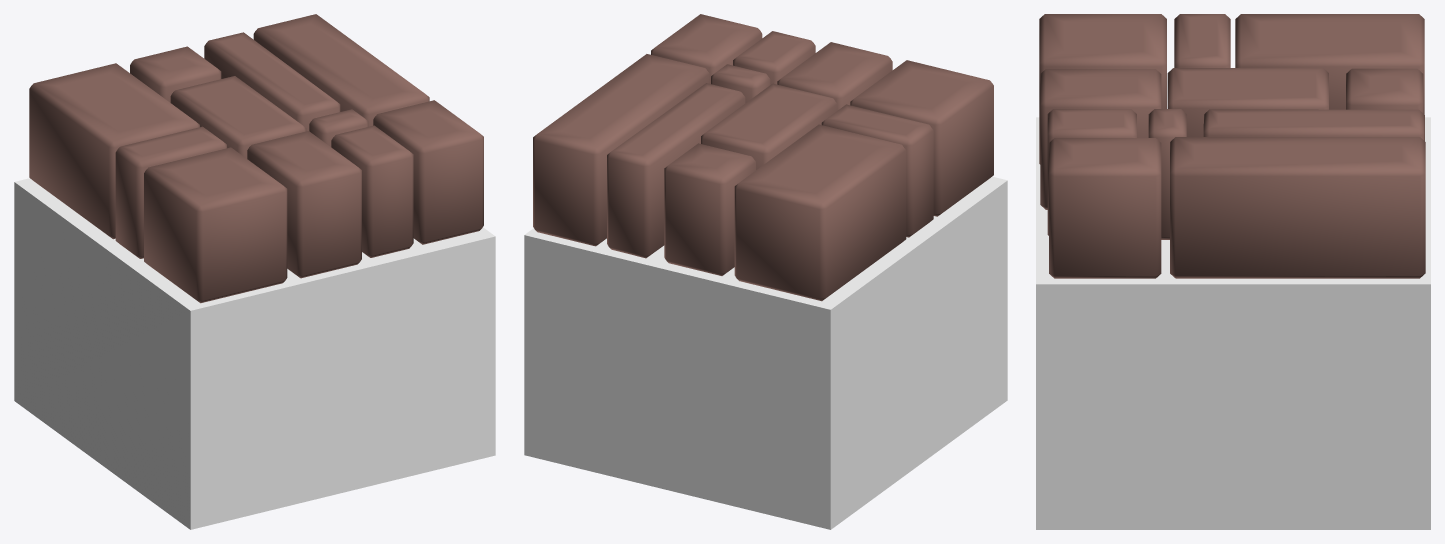
The model's file is Floor16.fbx.
3 renders of one model, left to right at view 1: azimuth 30°, elevation 25°; view 2: azimuth 150°, elevation 25°; view 3: azimuth 270°, elevation 25°, orthographic. The views are drawn at different scales.
Visible parts, largest first — view 1: Cube.264; view 2: Cube.264; view 3: Cube.264.
Boxes of the visible parts, x1,y1,x2,y2 form: Cube.264: [14, 14, 495, 529]; Cube.264: [524, 14, 1007, 529]; Cube.264: [1036, 14, 1430, 529].
Size of the model in its own units: 100 by 99.65 by 100.
